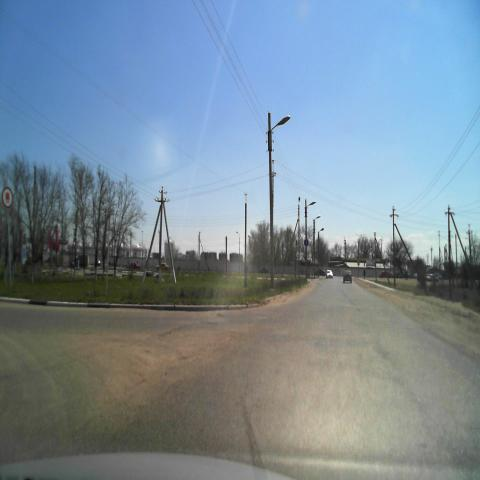3_32: (2, 186, 15, 212)
